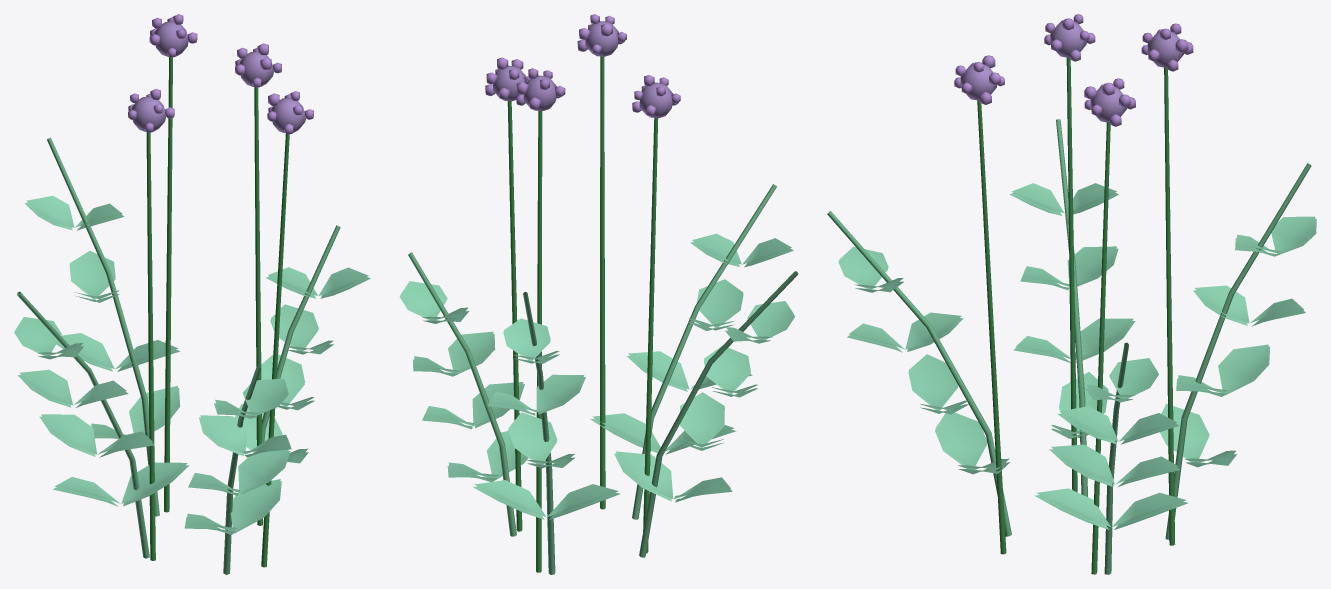
Rendered from ing_watermint.gltf.
3 renders of one model, left to right at view 1: azimuth 30°, elevation 25°; view 2: azimuth 150°, elevation 25°; view 3: azimuth 270°, elevation 25°, orthographic. The views are drawn at different scales.
Parts seen in each view (by area): view 1: ing_watermint; view 2: ing_watermint; view 3: ing_watermint.
Part boxes in pixels (bbox=[...]): ing_watermint: bbox=[14, 14, 370, 574]; ing_watermint: bbox=[399, 14, 798, 574]; ing_watermint: bbox=[827, 14, 1316, 574].
Size of what is drawn, in the model's own units: 0.36 by 0.4618 by 0.3932.
